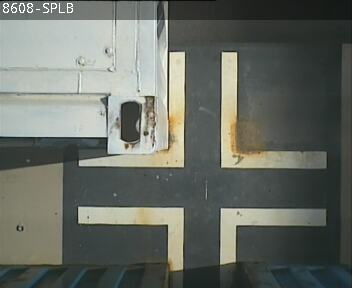groundmarker_1: (77, 51, 326, 168), (77, 205, 325, 288)
